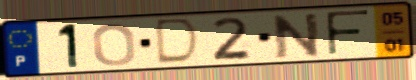1: (53, 22, 81, 71)
2: (212, 15, 255, 63)
D: (154, 16, 203, 66)
F: (323, 9, 373, 58)
N: (269, 11, 322, 60)
O: (91, 21, 139, 68)
